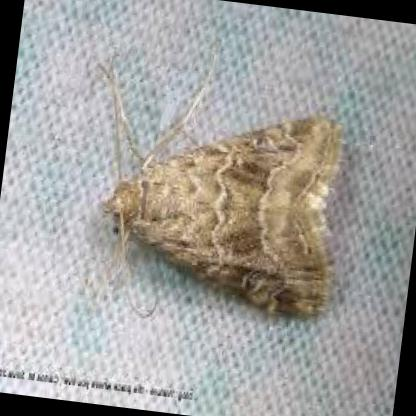Hellula undalis: (91, 37, 346, 338)
